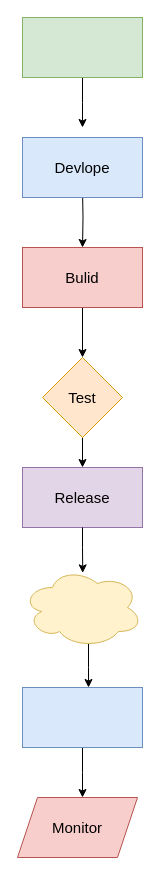
Some shapes in this 160 by 875 pixel diagram are drawn without their labels. Each missing label, with the centre of its shape:
"Deploye" belongs at point (82, 607).
"Operate" belongs at point (82, 717).
"Plan" belongs at point (82, 47).
